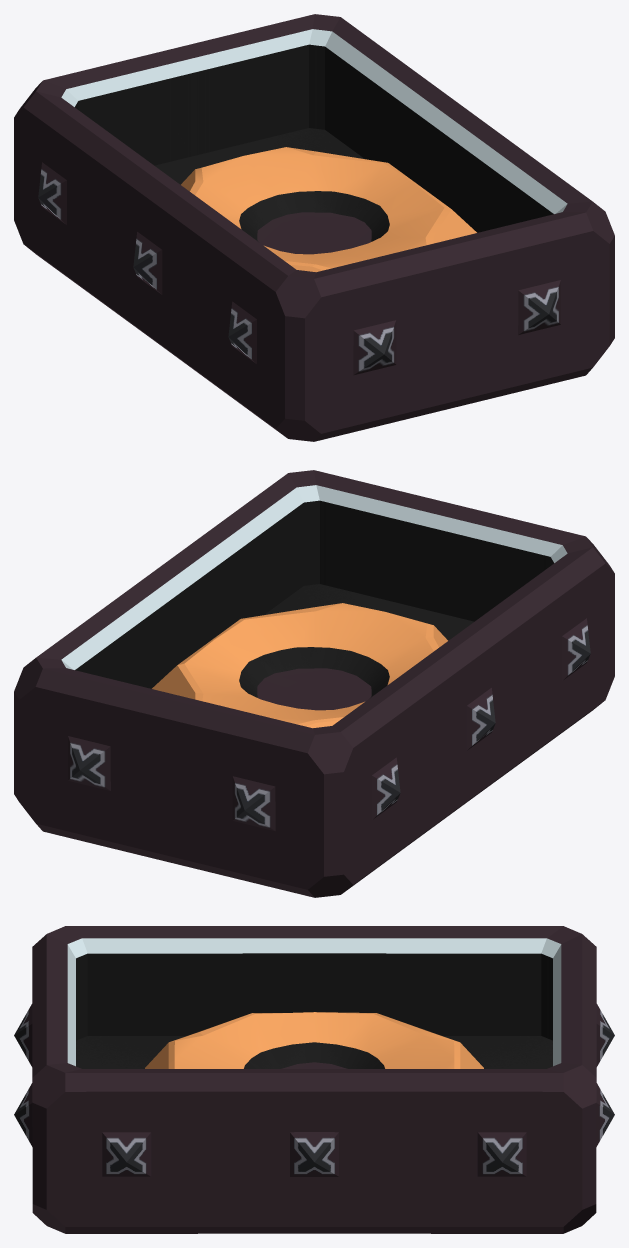
File: YK_Block_Collector.obj
3 views of the same model, one above another, from view 1: azimuth 30°, elevation 25°; view 2: azimuth 150°, elevation 25°; view 3: azimuth 270°, elevation 25° (orthographic).
Parts seen in each view (by area): view 1: BF_Block_111.001_BF_Block_111.002, BF_Block_111.000_BF_Block_111.005; view 2: BF_Block_111.001_BF_Block_111.002, BF_Block_111.000_BF_Block_111.005; view 3: BF_Block_111.001_BF_Block_111.002, BF_Block_111.000_BF_Block_111.005.
Part boxes in pixels (x1,y1,x2,y2): BF_Block_111.001_BF_Block_111.002: [14, 14, 614, 441]; BF_Block_111.000_BF_Block_111.005: [181, 147, 476, 272]; BF_Block_111.001_BF_Block_111.002: [14, 470, 614, 897]; BF_Block_111.000_BF_Block_111.005: [152, 603, 447, 728]; BF_Block_111.001_BF_Block_111.002: [14, 926, 614, 1233]; BF_Block_111.000_BF_Block_111.005: [145, 1012, 483, 1068].
Size of the model in its own units: 2.2 by 1.04 by 3.2.
